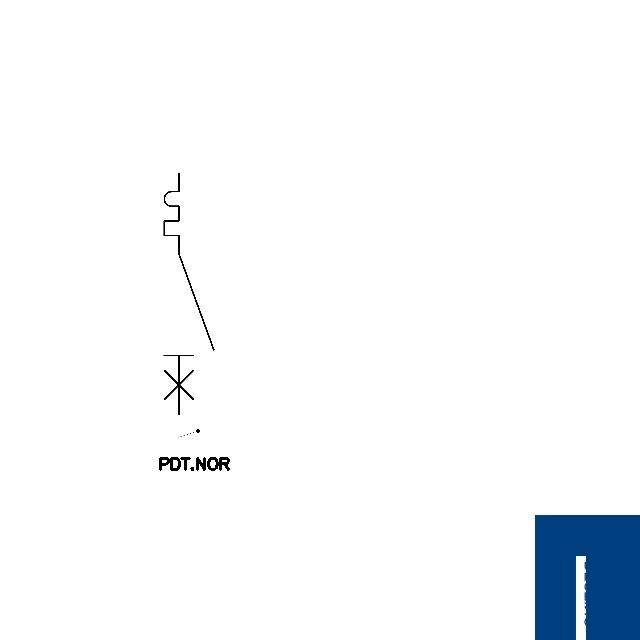interruptor_termomagnetico: (158, 167, 220, 420)
